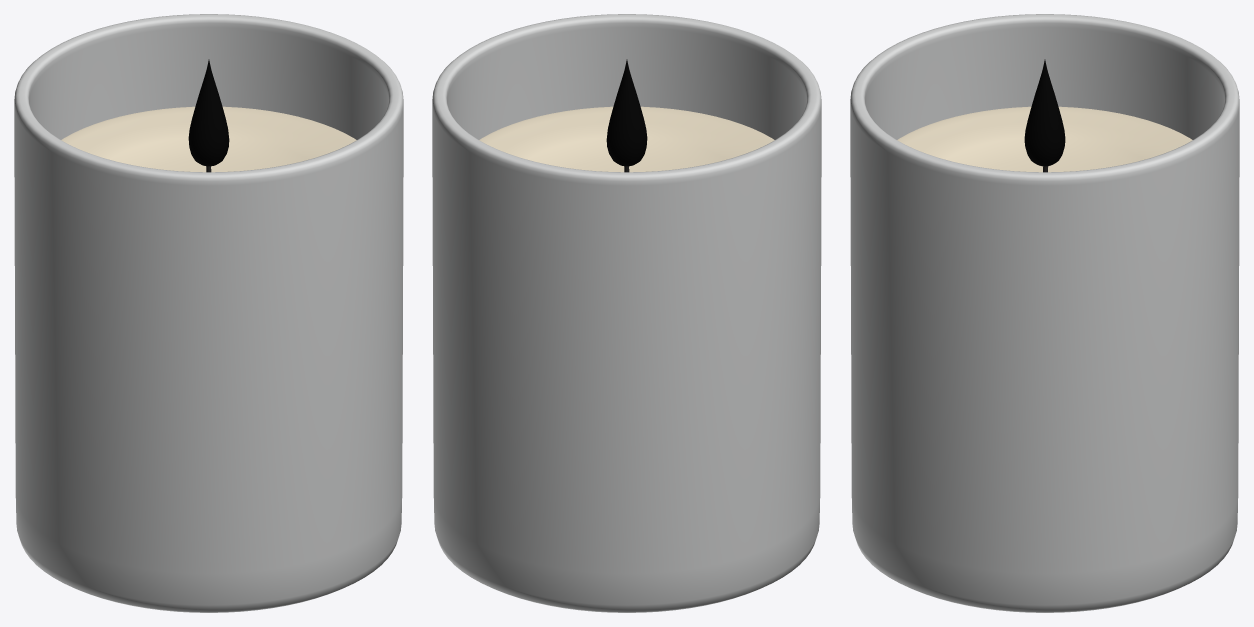
The model's file is candle.fbx.
3 views of the same model, side by side, from view 1: azimuth 30°, elevation 25°; view 2: azimuth 150°, elevation 25°; view 3: azimuth 270°, elevation 25° (orthographic).
Parts seen in each view (by area): view 1: candle; view 2: candle; view 3: candle.
Boxes of the visible parts, left/top/right/bottom form: candle: left=14, top=14, right=403, bottom=612; candle: left=432, top=14, right=821, bottom=612; candle: left=850, top=14, right=1239, bottom=612.
Size of the model in its own units: 0.08 by 0.08 by 0.1082.
